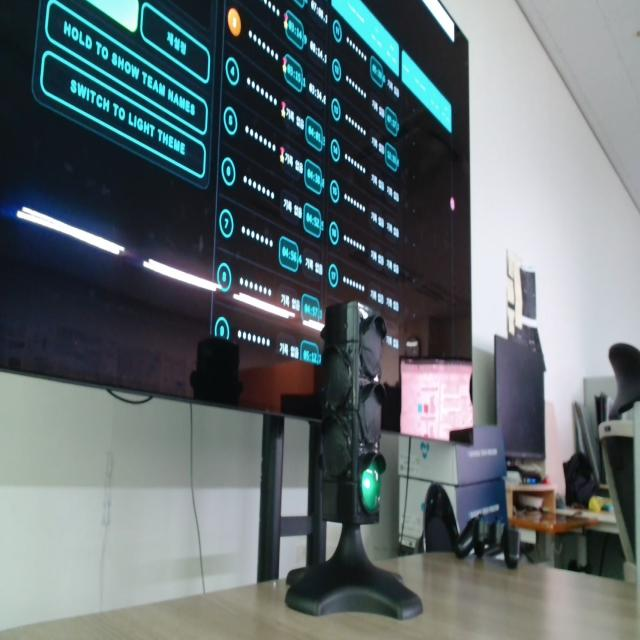green_light: (361, 460, 380, 513)
